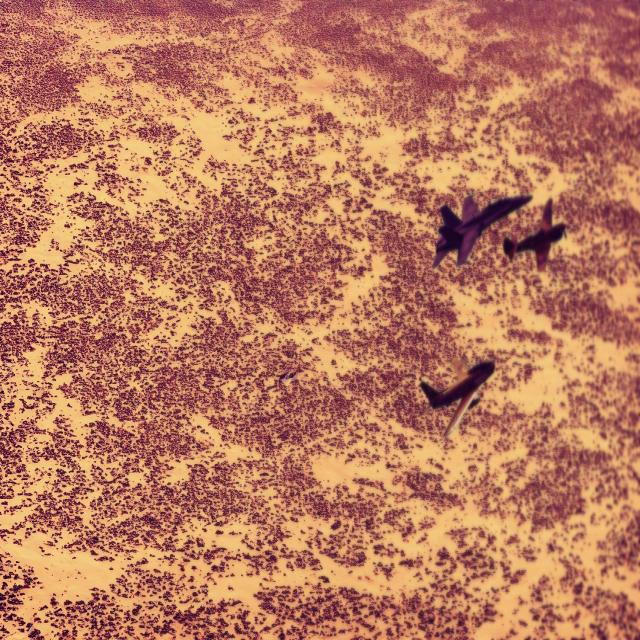airplane: (432, 192, 532, 270), (418, 355, 495, 438), (503, 196, 567, 272)
